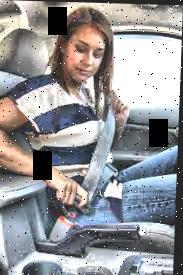seatbelt: (45, 83, 125, 242)
